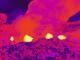Foc: (41, 29, 69, 43), (20, 32, 36, 45), (8, 35, 16, 46)
